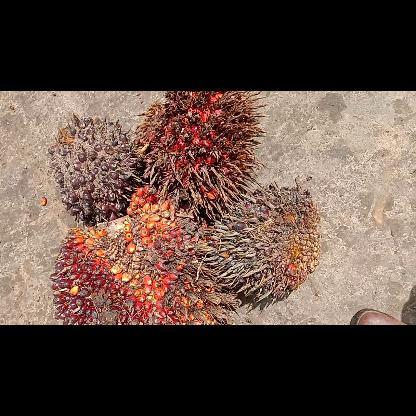Kurang masak: (46, 113, 140, 223)
TBS abnormal: (198, 182, 320, 302)
TBS masak: (49, 186, 235, 324)
Terlalu masak: (134, 91, 266, 219)
